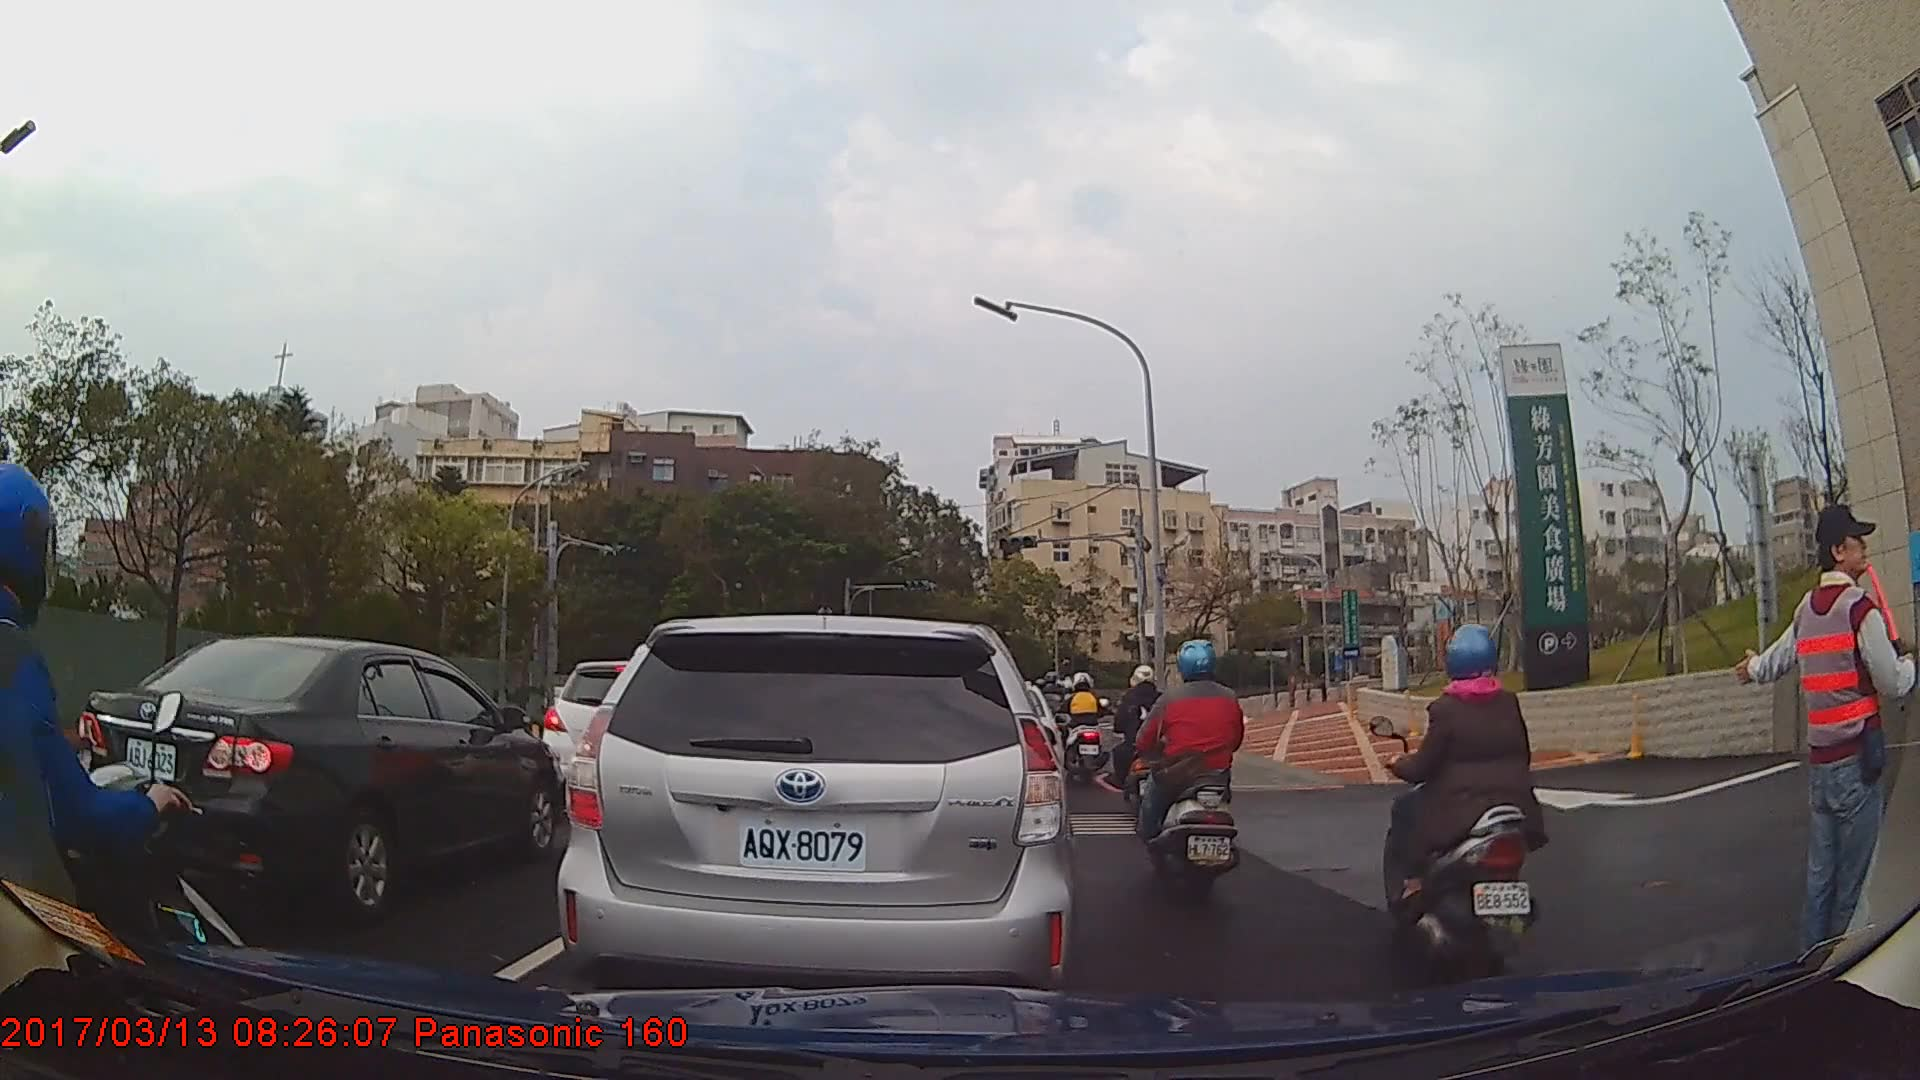pedestrian: (1737, 500, 1918, 979)
rider: (1, 456, 262, 1080), (1374, 624, 1534, 992), (1135, 640, 1241, 905), (1115, 660, 1172, 814), (1064, 669, 1111, 786)
vehicle: (558, 612, 1076, 1004), (67, 635, 565, 917)
